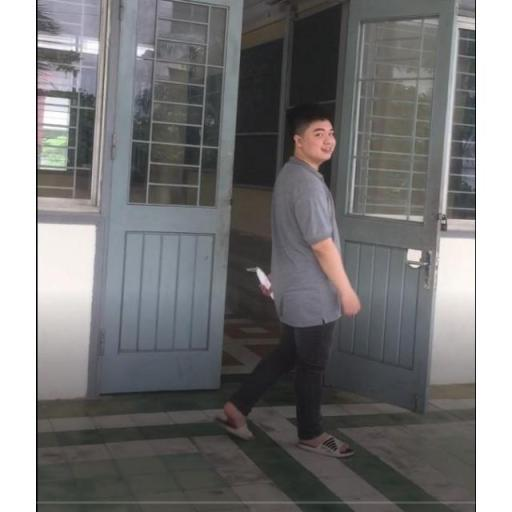Running: (218, 102, 356, 461)
